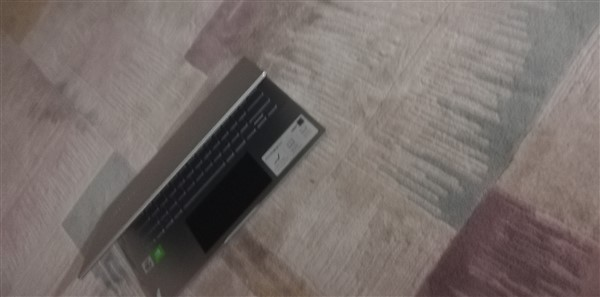laptop: (80, 58, 328, 297)
